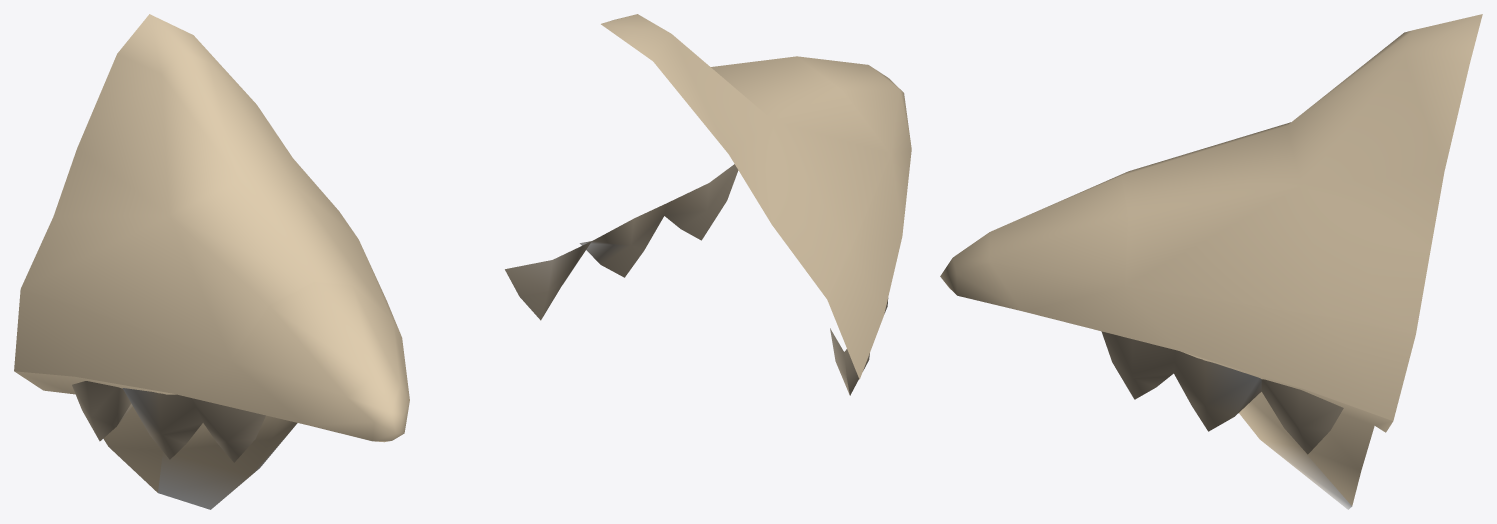
File: S12_Bird04_L2_Mouth.glb
3 views of the same model, side by side, from view 1: azimuth 30°, elevation 25°; view 2: azimuth 150°, elevation 25°; view 3: azimuth 270°, elevation 25° (orthographic). The views are drawn at different scales.
Parts seen in each view (by area): view 1: S12_Bird04_L2_Mouth__Mouth_M__surface0__lod0; view 2: S12_Bird04_L2_Mouth__Mouth_M__surface0__lod0; view 3: S12_Bird04_L2_Mouth__Mouth_M__surface0__lod0.
Boxes of the visible parts, x1,y1,x2,y2 form: S12_Bird04_L2_Mouth__Mouth_M__surface0__lod0: [14, 14, 409, 509]; S12_Bird04_L2_Mouth__Mouth_M__surface0__lod0: [505, 14, 911, 395]; S12_Bird04_L2_Mouth__Mouth_M__surface0__lod0: [940, 14, 1482, 509].
Bounding box in the file's own units: 0.156 × 0.1909 × 0.1893.
